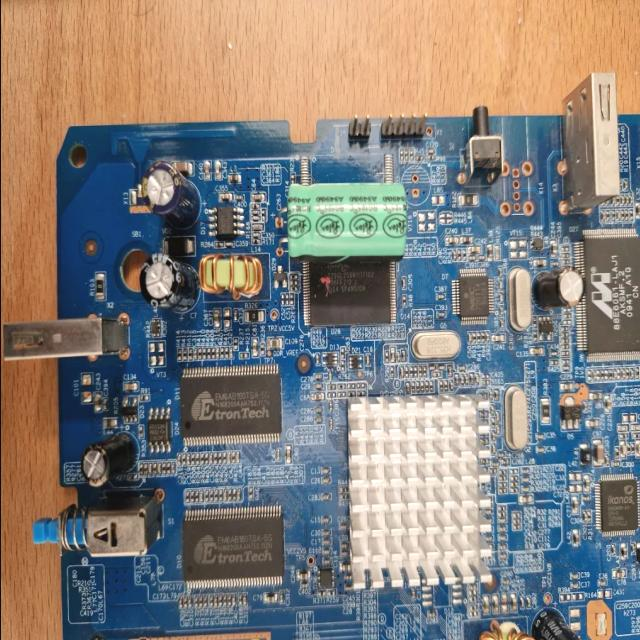A: (198, 253, 260, 298), (476, 625, 540, 640)
C: (140, 160, 198, 228), (139, 254, 195, 312), (81, 434, 133, 486), (534, 266, 584, 308), (541, 607, 596, 640)
